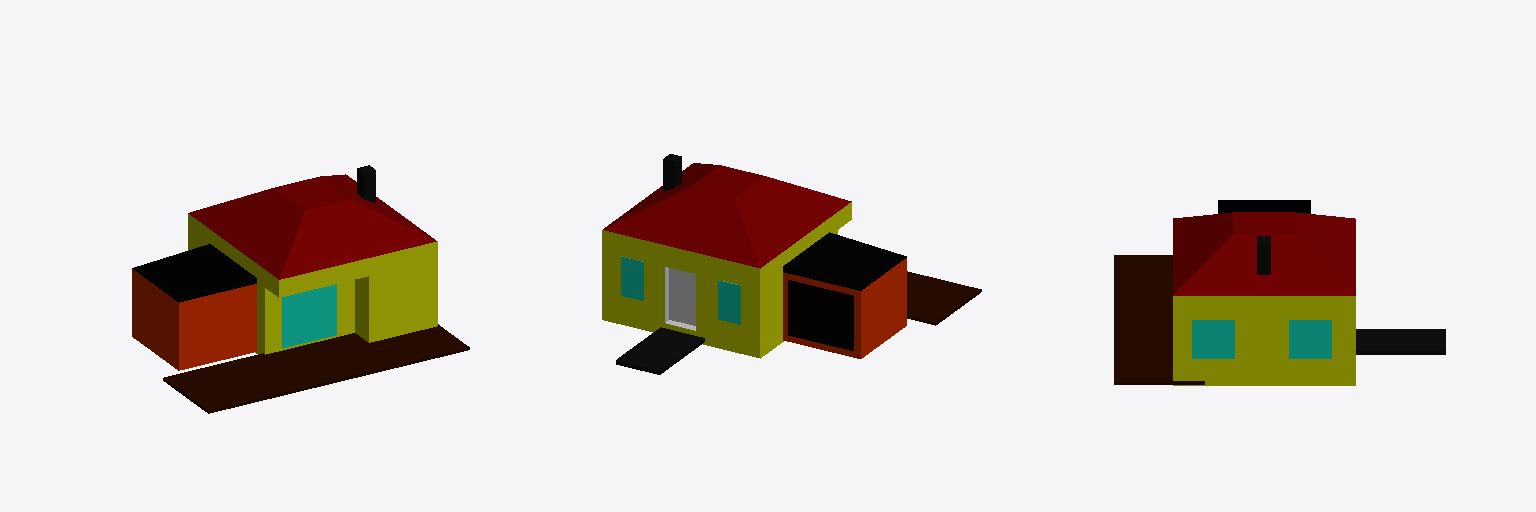
File: house.obj
3 renders of one model, left to right at view 1: azimuth 30°, elevation 25°; view 2: azimuth 150°, elevation 25°; view 3: azimuth 270°, elevation 25°, orthographic.
Parts seen in each view (by area): view 1: Cube, Cube.001, Cube.009, Cube.004, Cube.002; view 2: Cube, Cube.001, Cube.009, Cube.003, Cube.008, Cube.007, Cube.002; view 3: Cube, Cube.009, Cube.003, Cube.006, Cube.005, Cube.001, Cube.002.
Part boxes in pixels (left/top/right/bottom): Cube: left=188, top=174, right=437, bottom=354; Cube.001: left=132, top=244, right=256, bottom=370; Cube.009: left=163, top=324, right=469, bottom=413; Cube.004: left=282, top=284, right=336, bottom=348; Cube.002: left=357, top=165, right=375, bottom=202; Cube: left=602, top=163, right=851, bottom=358; Cube.001: left=783, top=232, right=906, bottom=358; Cube.009: left=907, top=271, right=981, bottom=325; Cube.003: left=616, top=327, right=704, bottom=374; Cube.008: left=718, top=280, right=740, bottom=324; Cube.007: left=621, top=256, right=643, bottom=300; Cube.002: left=663, top=154, right=681, bottom=191; Cube: left=1173, top=212, right=1355, bottom=385; Cube.009: left=1114, top=255, right=1204, bottom=384; Cube.003: left=1356, top=329, right=1445, bottom=354; Cube.006: left=1289, top=320, right=1331, bottom=358; Cube.005: left=1192, top=320, right=1234, bottom=358; Cube.001: left=1218, top=200, right=1310, bottom=213; Cube.002: left=1257, top=236, right=1270, bottom=274.
Size of the model in its own units: 8.57 by 4.23 by 9.43.